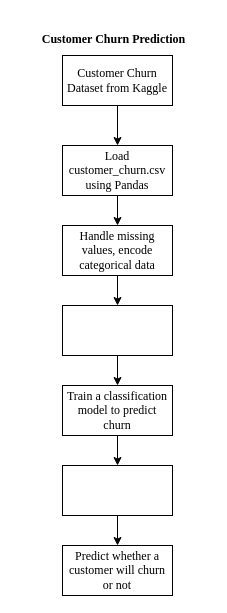
This 227x613 diagram has some shape labels left out. The shapes that lost their labels are listed below. From the top down, each one's centre as x and y in pixels, then its label:
At (x=117, y=330): "Split data into training and testing sets".
At (x=117, y=490): "Evaluate model performance".
